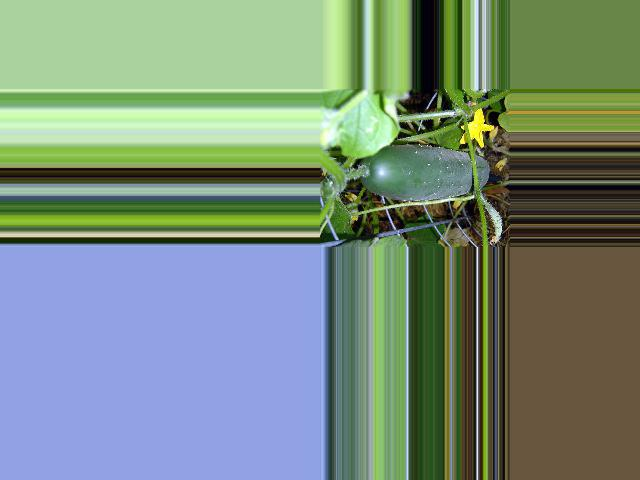cucumber: (359, 145, 488, 202)
